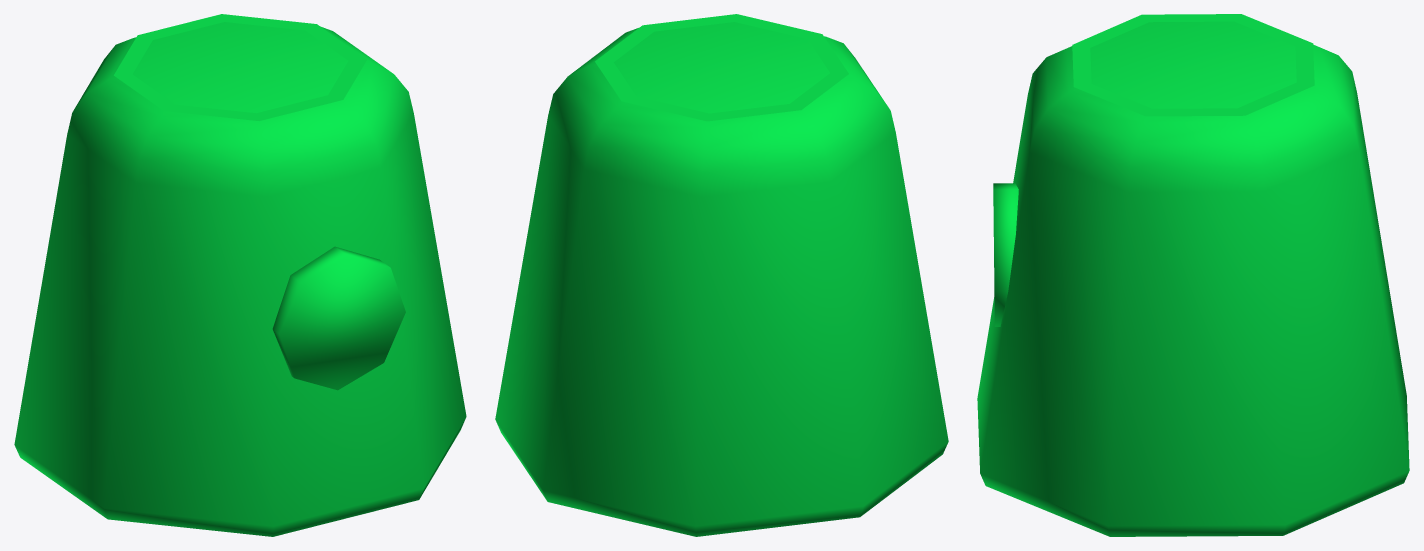
File: motorliquidificador.fbx
The picture shows the model from 3 angles, left to right: view 1: azimuth 30°, elevation 25°; view 2: azimuth 150°, elevation 25°; view 3: azimuth 270°, elevation 25°; orthographic projection.
Parts seen in each view (by area): view 1: Liquidificador; view 2: Liquidificador; view 3: Liquidificador.
Boxes of the visible parts, left/top/right/bottom form: Liquidificador: left=14, top=14, right=466, bottom=536; Liquidificador: left=495, top=14, right=948, bottom=536; Liquidificador: left=977, top=14, right=1409, bottom=536.
Size of the model in its own units: 55.74 by 55.29 by 55.74.
